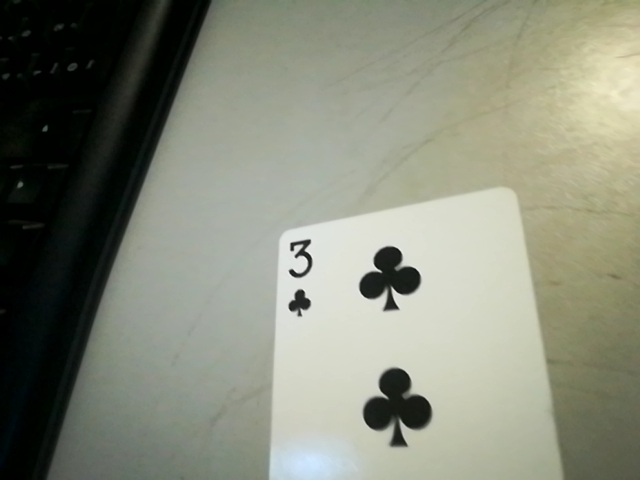mh 3: (271, 227, 324, 322)
